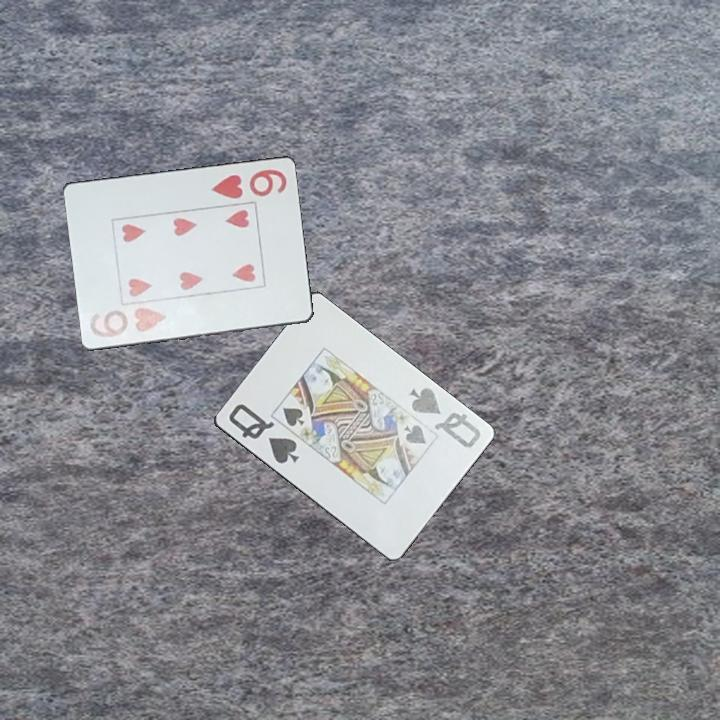6h: (86, 304, 170, 343), (207, 166, 290, 202)
Qs: (224, 400, 302, 467), (405, 384, 483, 451)
